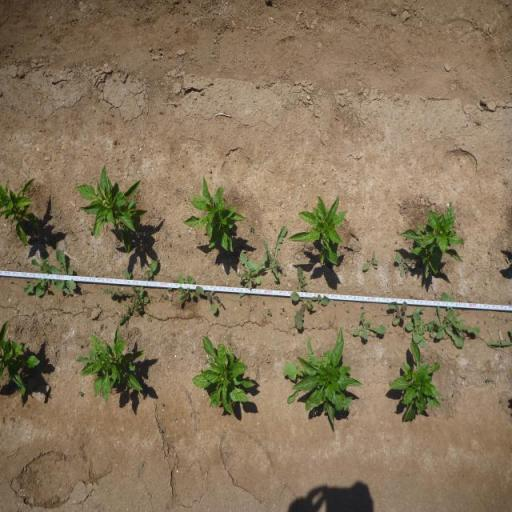plant: (293, 324, 363, 428), (74, 163, 147, 254), (397, 199, 467, 283), (182, 173, 249, 258), (79, 327, 149, 404), (191, 335, 256, 416), (390, 340, 444, 426), (288, 194, 346, 266), (0, 318, 41, 396), (0, 176, 39, 248)
weed: (102, 257, 160, 325), (290, 264, 331, 332), (442, 292, 483, 351), (248, 225, 287, 284), (49, 248, 77, 296), (403, 308, 435, 348), (236, 251, 262, 299), (24, 251, 50, 298), (352, 311, 386, 340), (195, 286, 220, 316), (387, 301, 414, 326), (434, 307, 452, 342), (176, 274, 196, 304), (394, 252, 410, 277), (362, 250, 378, 272), (485, 339, 512, 350), (137, 294, 150, 313), (202, 356, 216, 364), (429, 328, 436, 338), (485, 376, 493, 383), (266, 308, 272, 317), (78, 390, 84, 397), (94, 302, 100, 309), (87, 224, 91, 234), (249, 224, 254, 232), (147, 315, 152, 322), (262, 300, 266, 306), (499, 398, 503, 404), (238, 301, 242, 306), (281, 307, 285, 312), (388, 380, 392, 385), (249, 306, 252, 312), (346, 308, 349, 314), (159, 429, 163, 433), (79, 344, 82, 348), (161, 402, 164, 406), (334, 301, 336, 307), (198, 239, 200, 244)
